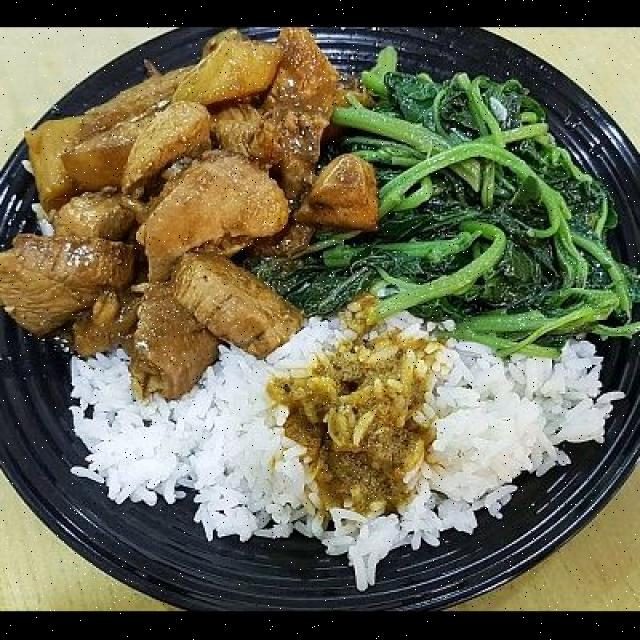Green veg: (254, 46, 638, 357)
Pork: (0, 29, 378, 397)
Rice: (72, 317, 622, 589)
